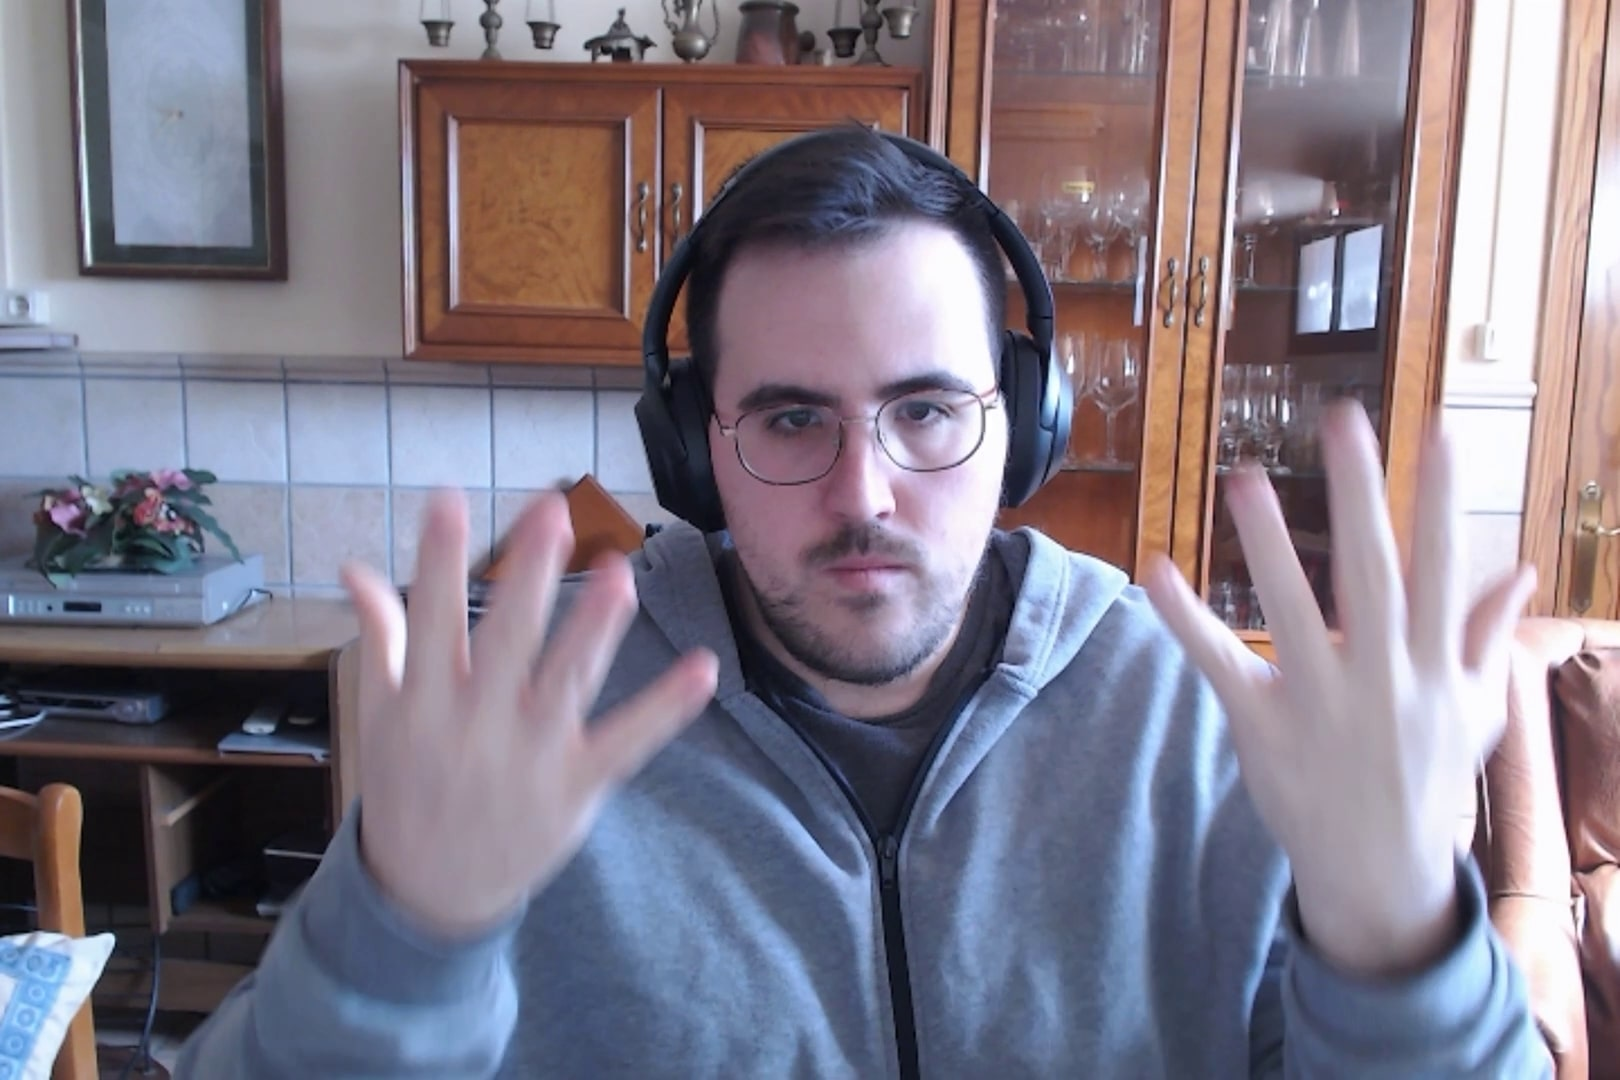hand: (1137, 391, 1564, 893), (331, 475, 749, 923)
